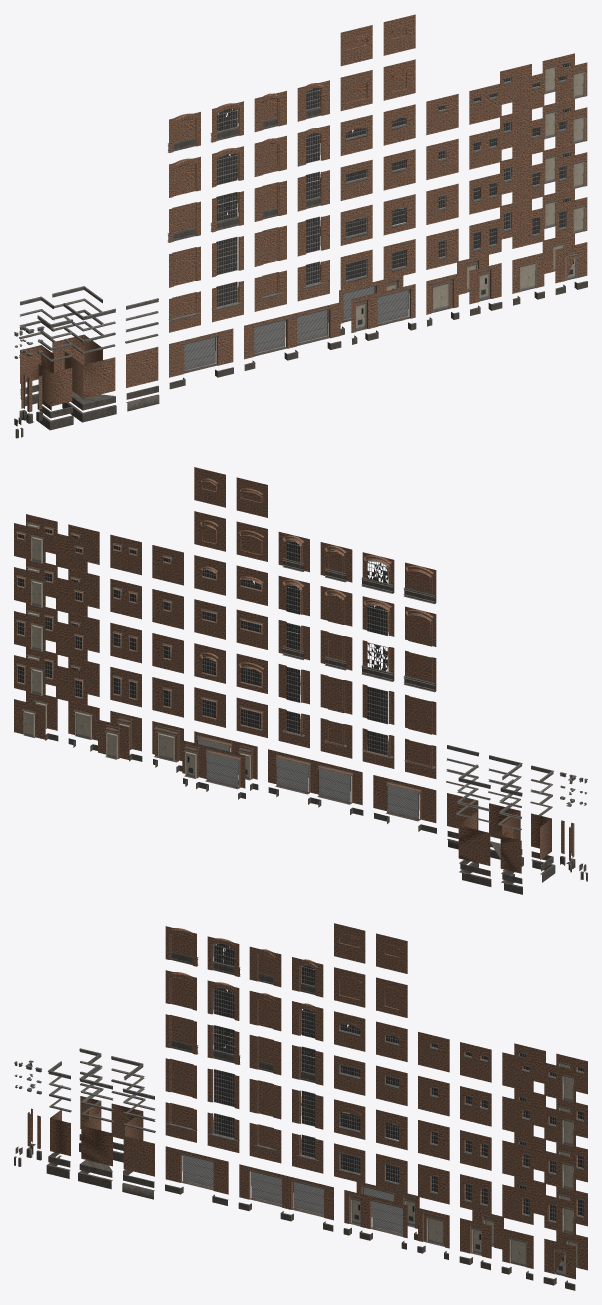
File: modular_factory_facade.glb
3 renders of one model, top to bottom at view 1: azimuth 30°, elevation 25°; view 2: azimuth 150°, elevation 25°; view 3: azimuth 330°, elevation 25°, orthographic.
Parts seen in each view (by area): view 1: wall_standard_standard_01, window_centered_medium_03, dado_standard_corner_large_01, cornice02_standard_standard_01, door_recessed_large_01; view 2: wall_standard_standard_01, window_centered_medium_03, dado_standard_corner_large_01, cornice02_standard_standard_01, door_recessed_large_01; view 3: wall_standard_standard_01, window_centered_medium_03, dado_standard_corner_large_01, cornice02_standard_standard_01, door_recessed_large_01.
Boxes of the visible parts, x1=… form: wall_standard_standard_01: x1=20, y1=14, x2=587, y2=412; window_centered_medium_03: x1=19, y1=61, x2=586, y2=361; dado_standard_corner_large_01: x1=14, y1=281, x2=587, y2=426; cornice02_standard_standard_01: x1=14, y1=107, x2=324, y2=438; door_recessed_large_01: x1=356, y1=67, x2=585, y2=329; wall_standard_standard_01: x1=14, y1=467, x2=574, y2=873; window_centered_medium_03: x1=16, y1=522, x2=552, y2=830; dado_standard_corner_large_01: x1=34, y1=718, x2=586, y2=883; cornice02_standard_standard_01: x1=282, y1=558, x2=587, y2=894; door_recessed_large_01: x1=23, y1=524, x2=250, y2=779; wall_standard_standard_01: x1=27, y1=923, x2=587, y2=1279; window_centered_medium_03: x1=49, y1=944, x2=584, y2=1252; dado_standard_corner_large_01: x1=15, y1=1134, x2=575, y2=1290; cornice02_standard_standard_01: x1=14, y1=951, x2=318, y2=1199; door_recessed_large_01: x1=350, y1=1063, x2=577, y2=1276.
Size of the model in its own units: 53.33 by 29 by 5.36.
6 materials, 6 textured.
